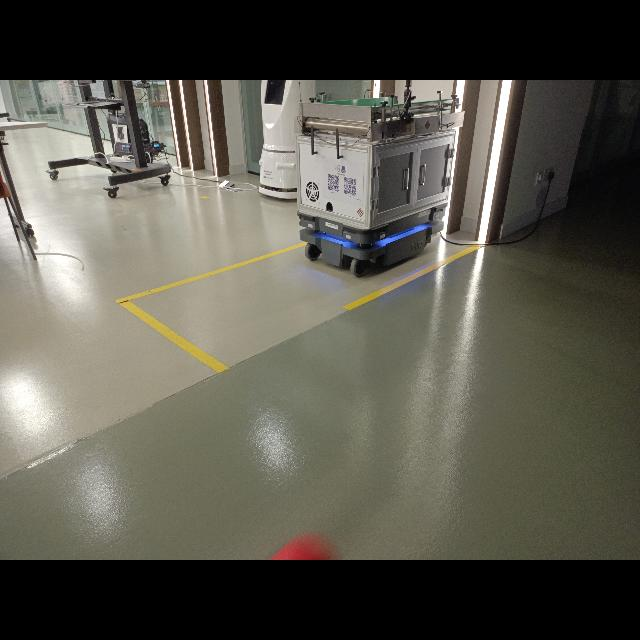R: (262, 534, 346, 560)
